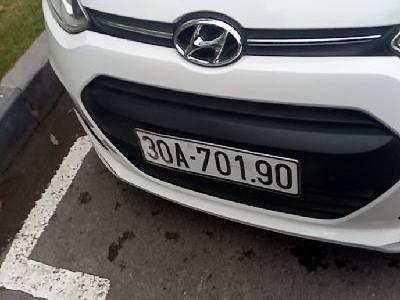car: (135, 129, 300, 196)
